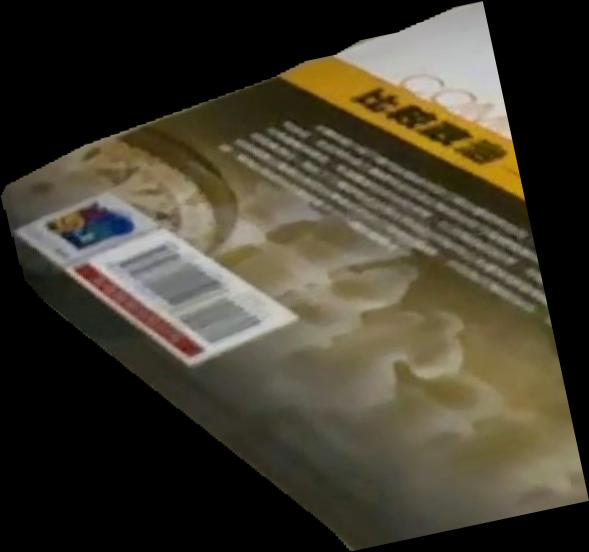flat: (1, 1, 589, 552)
